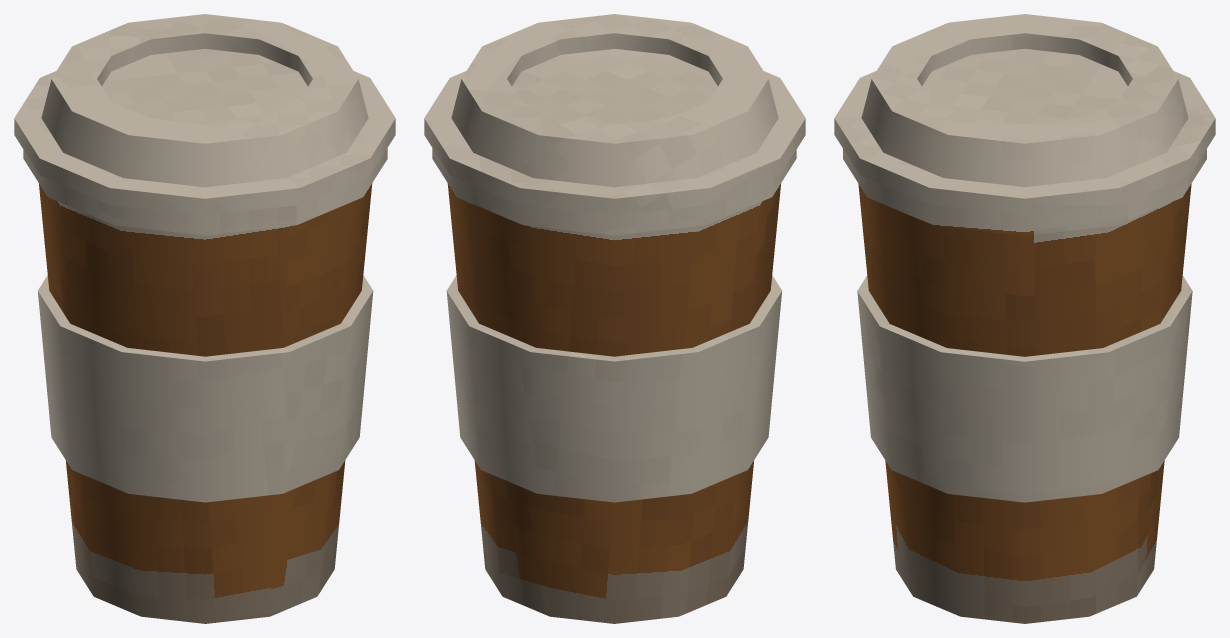
Rendered from Coffee_Cup.fbx.
3 views of the same model, side by side, from view 1: azimuth 30°, elevation 25°; view 2: azimuth 150°, elevation 25°; view 3: azimuth 270°, elevation 25° (orthographic).
Visible parts, largest first — view 1: Coffe_Cup, Coffe_Lid; view 2: Coffe_Cup, Coffe_Lid; view 3: Coffe_Cup, Coffe_Lid.
Part boxes in pixels (x1=…): Coffe_Cup: x1=23, y1=148, x2=387, y2=623; Coffe_Lid: x1=14, y1=14, x2=395, y2=215; Coffe_Cup: x1=432, y1=148, x2=796, y2=623; Coffe_Lid: x1=424, y1=14, x2=805, y2=215; Coffe_Cup: x1=843, y1=149, x2=1206, y2=623; Coffe_Lid: x1=834, y1=14, x2=1215, y2=215.
Bounding box in the file's own units: 0.1302 × 0.1847 × 0.1302.
Materials: 1 (1 with a texture image).
